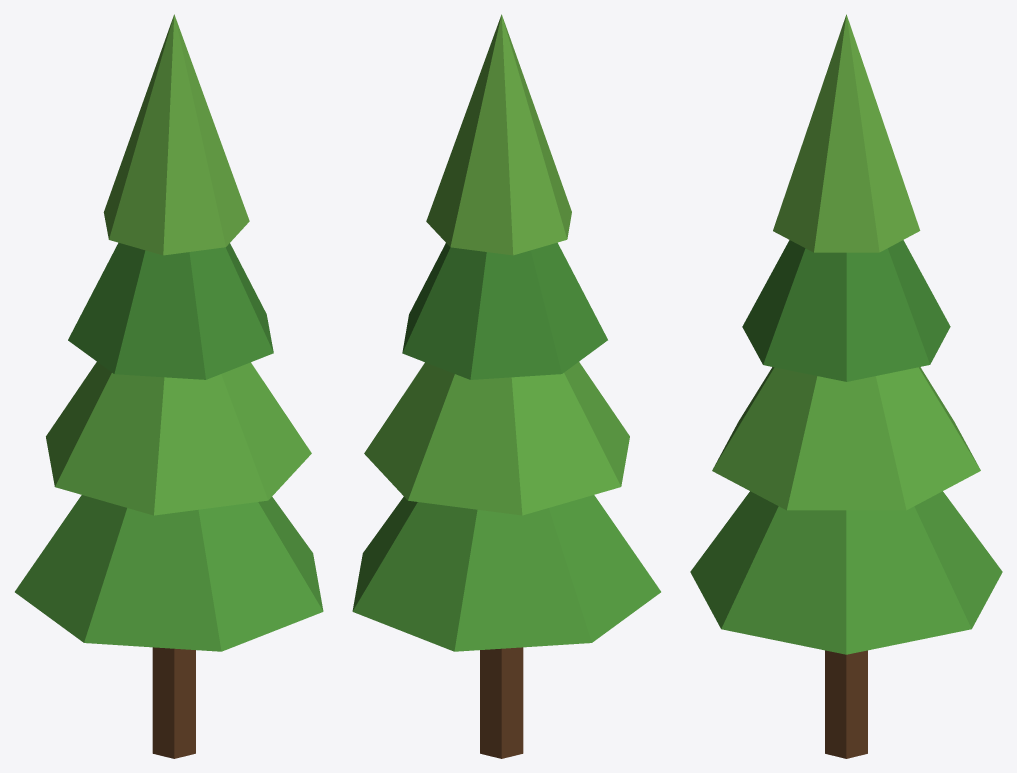
The model's file is SM_PineB_G.glb.
The picture shows the model from 3 angles, left to right: view 1: azimuth 30°, elevation 25°; view 2: azimuth 150°, elevation 25°; view 3: azimuth 270°, elevation 25°; orthographic projection.
Visible parts, largest first — view 1: SM_PineB_G; view 2: SM_PineB_G; view 3: SM_PineB_G.
Boxes of the visible parts, x1,y1,x2,y2 form: SM_PineB_G: (15,14,323,758); SM_PineB_G: (352,14,660,758); SM_PineB_G: (690,14,1002,758).
Bounding box in the file's own units: 3.42 × 9.1 × 3.51.
1 material, 1 textured.
